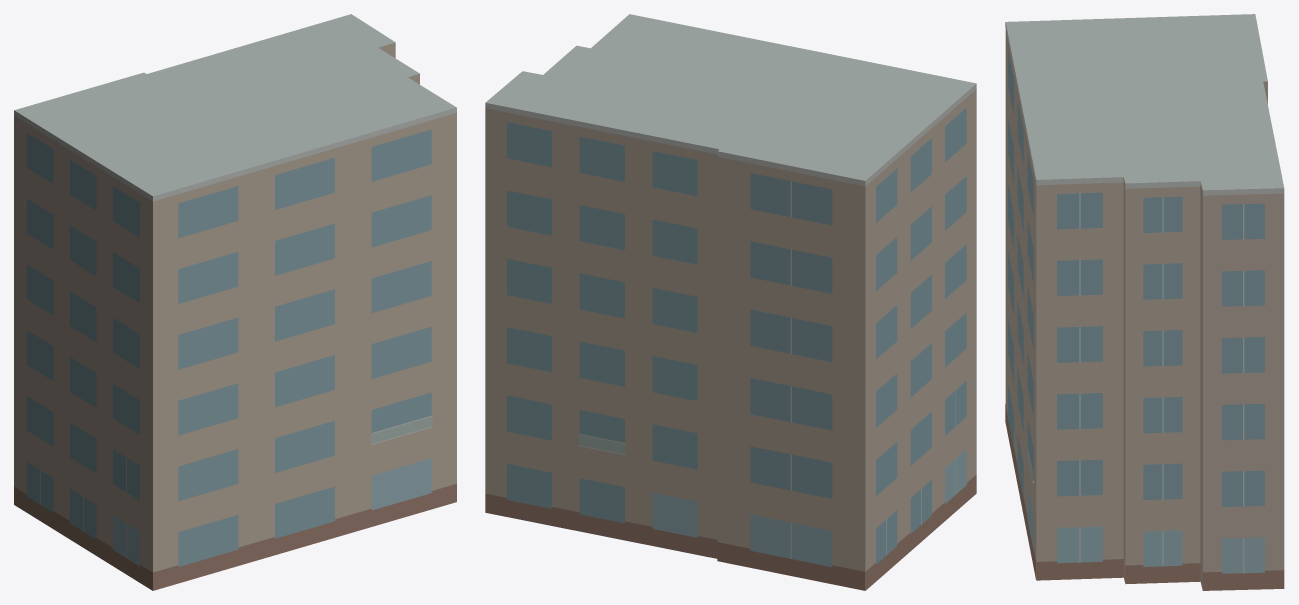
The model's file is survey-upis-33023064.glb.
3 views of the same model, side by side, from view 1: azimuth 30°, elevation 25°; view 2: azimuth 150°, elevation 25°; view 3: azimuth 270°, elevation 25° (orthographic). The views are drawn at different scales.
Parts seen in each view (by area): view 1: survey-upis-33023064.tmp; view 2: survey-upis-33023064.tmp; view 3: survey-upis-33023064.tmp.
Boxes of the visible parts, x1,y1,x2,y2 form: survey-upis-33023064.tmp: (14, 14, 456, 590); survey-upis-33023064.tmp: (485, 14, 976, 590); survey-upis-33023064.tmp: (1005, 14, 1284, 590).
Bounding box in the file's own units: 17.28 × 18.3 × 11.55.
